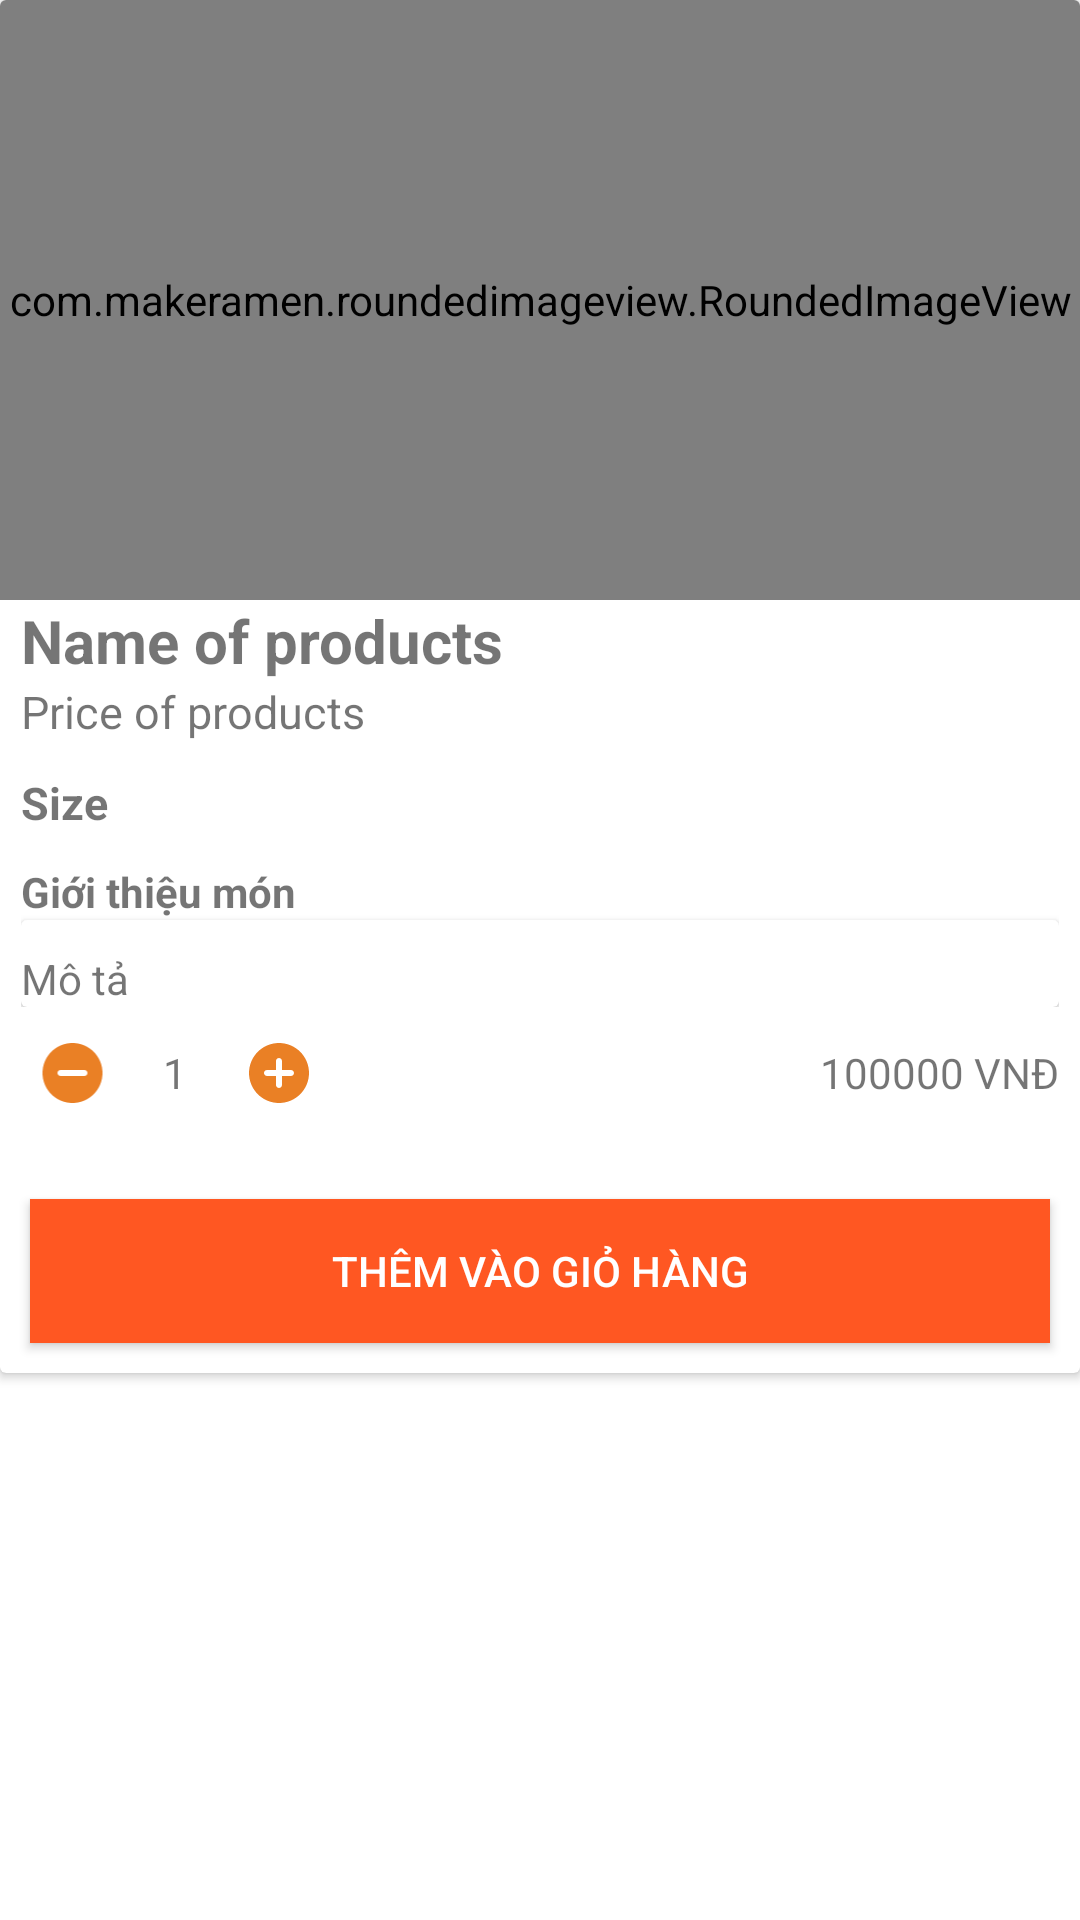

Screen size 1080w x 1920h. Icon name, then its center in pixels as point (x, y):
add circle: point (279, 1073)
remove circle: point (72, 1073)
